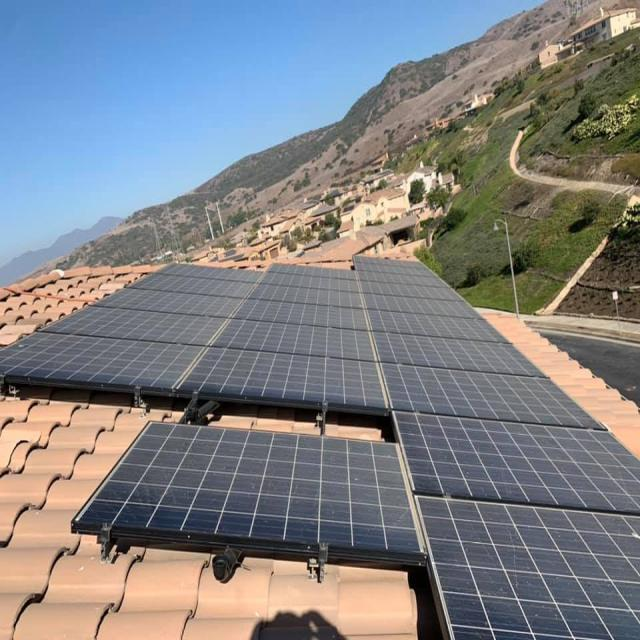dust-solar-panel: (0, 255, 640, 637)
